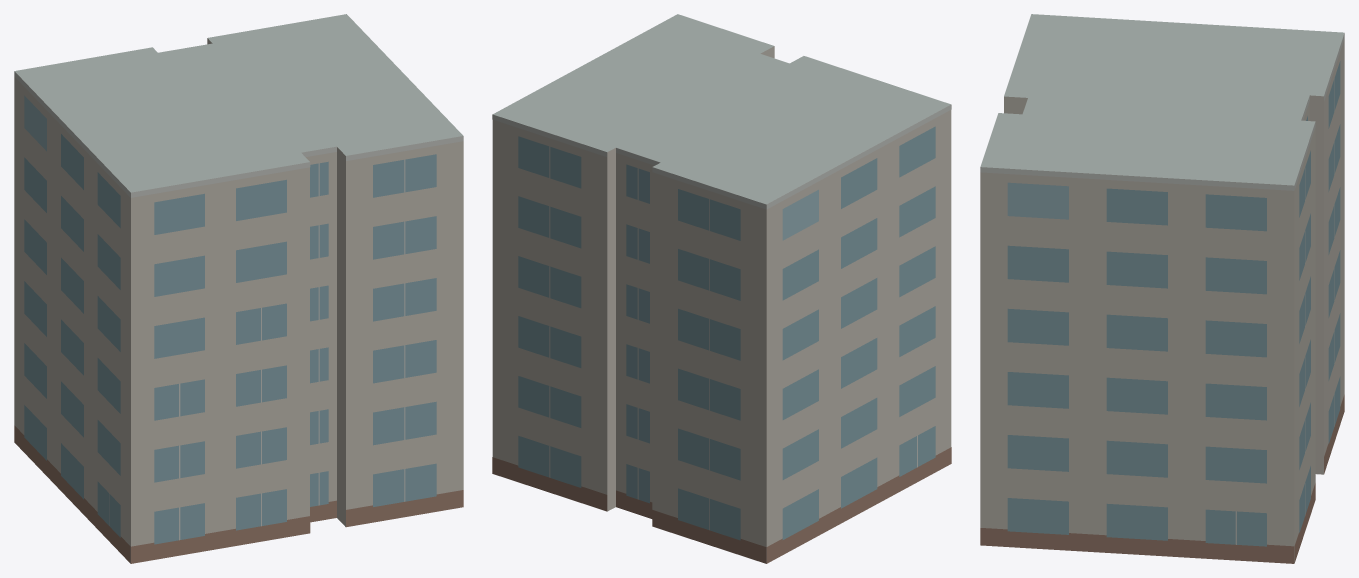
File: survey-upis-32514589.glb
The picture shows the model from 3 angles, left to right: view 1: azimuth 30°, elevation 25°; view 2: azimuth 150°, elevation 25°; view 3: azimuth 270°, elevation 25°; orthographic projection. The views are drawn at different scales.
Parts seen in each view (by area): view 1: survey-upis-32514589.tmp; view 2: survey-upis-32514589.tmp; view 3: survey-upis-32514589.tmp.
Boxes of the visible parts, bbox=[...] form: survey-upis-32514589.tmp: bbox=[14, 14, 463, 563]; survey-upis-32514589.tmp: bbox=[492, 14, 951, 563]; survey-upis-32514589.tmp: bbox=[980, 14, 1344, 563].
Size of the model in its own units: 16.74 by 17.2 by 15.02.
